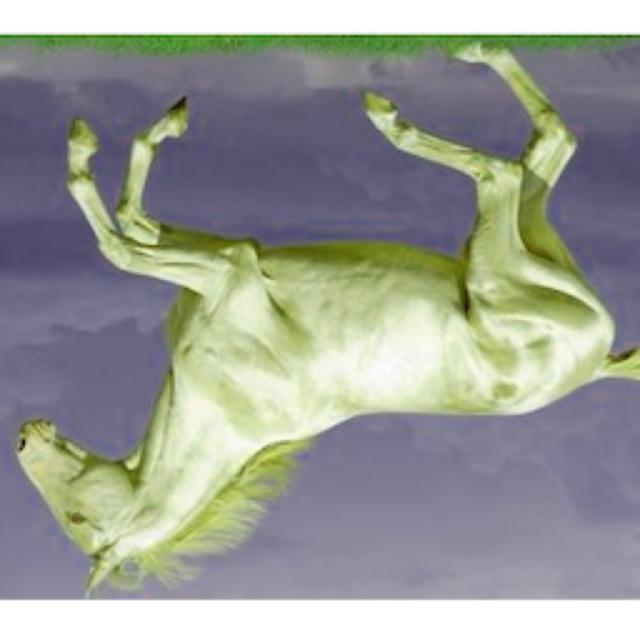Horse: (8, 43, 640, 600)
